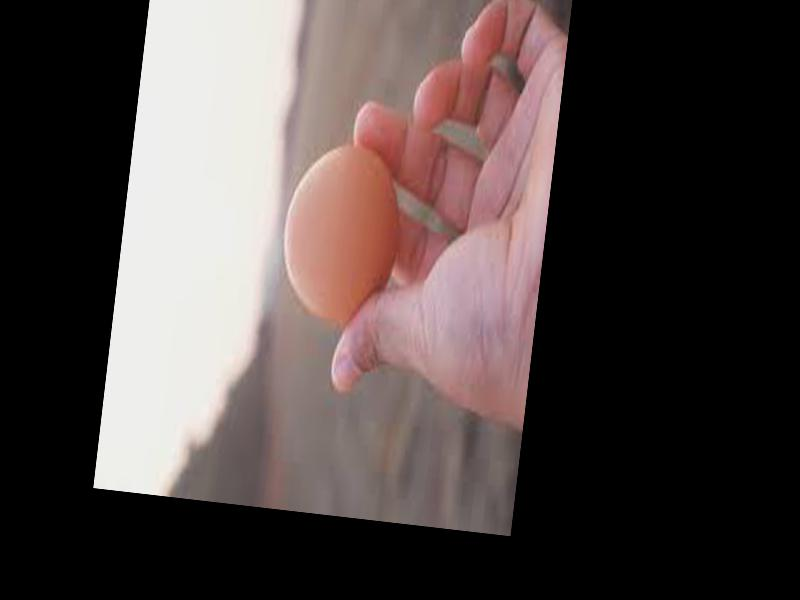Eggs: (275, 138, 406, 327)
